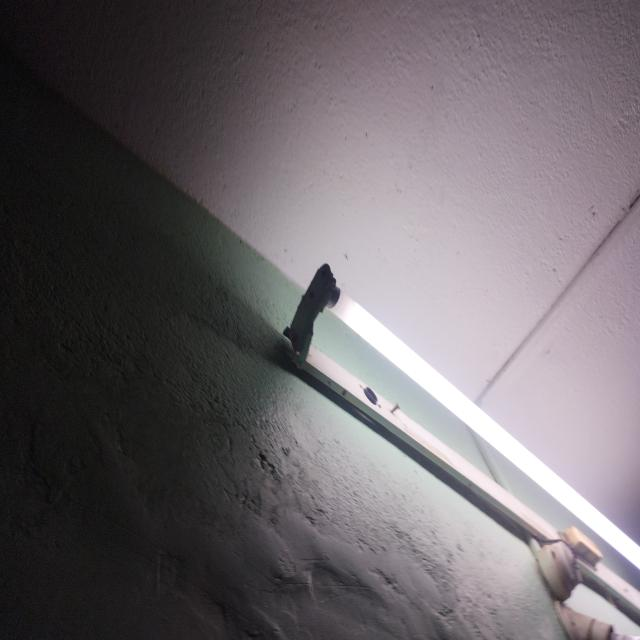tubelight_on: (278, 252, 639, 616)
